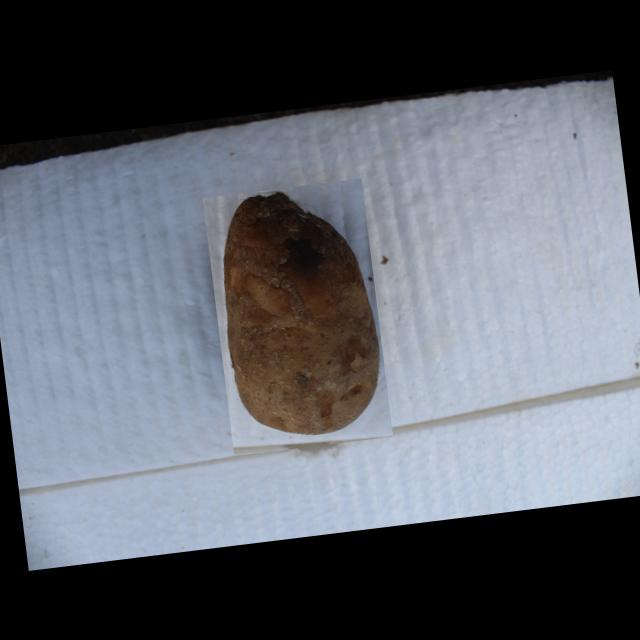Diseased-fungal potato: (202, 178, 392, 456)
